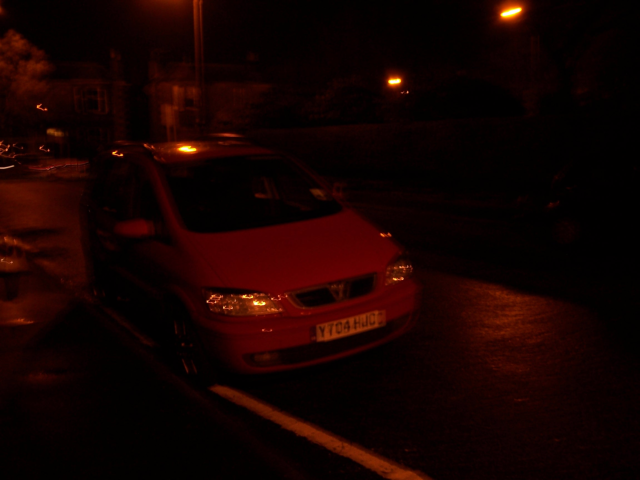car: (69, 124, 428, 392)
